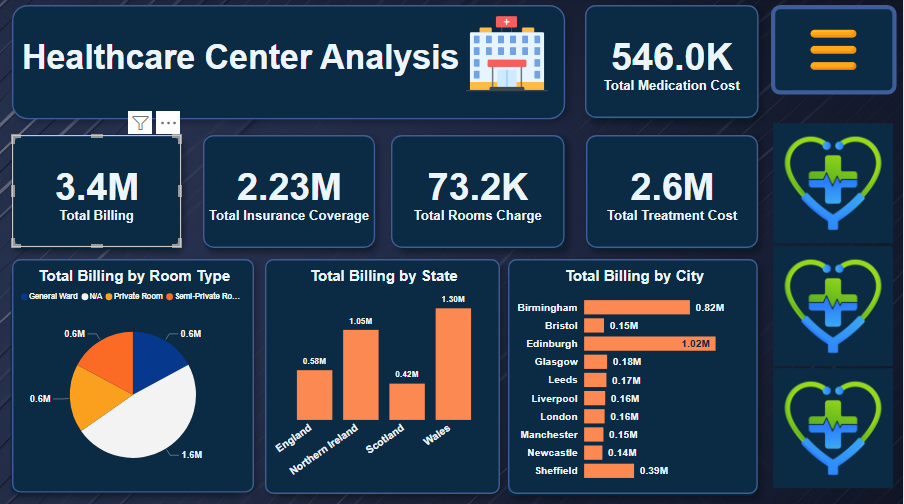

The dashboard page shown, as its layout file describes it:
{"tool":"powerbi","page":{"name":"Page 1","canvas":[1280,720],"ordinal":0},"visuals":[{"type":"slicer","fields":{"Values":["patients.Gender"]},"box":[1093.1,155.2,177.4,87],"z":1000},{"type":"slicer","fields":{"Values":["patients.Race"]},"box":[1093.1,239.9,177.4,87.9],"z":2000},{"type":"slicer","fields":{"Values":["visits.Date of Visit.Variation.Date Hierarchy.Quarter"]},"box":[1093.1,327.8,177.4,87],"z":3000},{"type":"image","box":[1091.3,11.3,178.6,127.6],"z":5000},{"type":"actionButton","box":[1092.2,589.4,171.4,62],"z":6000},{"type":"actionButton","box":[1093.9,506.1,171.4,62],"z":7000},{"type":"shape","title":"Healthcare Analysis","box":[18,11.4,783.7,161.6],"z":8000},{"type":"shape","box":[18,195.9,235.1,161.6],"z":9000},{"type":"shape","box":[292.2,195.4,234.8,161.3],"z":10000},{"type":"shape","box":[566.5,195.9,235.1,161.6],"z":11000},{"type":"shape","box":[835.9,195.9,235.1,161.6],"z":12000},{"type":"shape","box":[835.9,11.4,235.1,161.6],"z":13000},{"type":"shape","box":[17.4,389.1,316.6,314],"z":14000},{"type":"shape","box":[720.5,389.1,351.5,316.6],"z":15000},{"type":"card","fields":{"Values":["KPIs.Total Billing"]},"box":[18.4,195.6,239.5,158.7],"z":19000},{"type":"card","fields":{"Values":["KPIs.Total Insurance Coverage"]},"box":[288.6,195.4,243.8,159.6],"z":20000},{"type":"card","fields":{"Values":["KPIs.Total Rooms Charge"]},"box":[555.7,195.4,245.6,159.6],"z":21000},{"type":"card","fields":{"Values":["KPIs.Total Treatment Cost"]},"box":[831.8,195.4,243.8,159.6],"z":22000},{"type":"card","fields":{"Values":["KPIs.Total Medication Cost"]},"box":[830,10.8,245.6,159.6],"z":23000},{"type":"textbox","box":[32.3,25.1,756.5,130.9],"z":24000},{"type":"image","box":[652.5,10.8,136.2,138],"z":25000},{"type":"clusteredBarChart","title":" Total Billing by City ","fields":{"Category":["cities.City"],"Y":["Sum(visits.Total Billing)"]},"box":[721.4,371.3,354.3,333.1],"z":26000},{"type":"shape","box":[393.3,388.4,285.2,314.7],"z":27000},{"type":"clusteredColumnChart","title":" Total Billing by State","fields":{"Category":["cities.State"],"Y":["Sum(visits.Total Billing)"]},"box":[377,372,332.7,332.7],"z":28000},{"type":"pieChart","title":" Total Billing by Room Type","fields":{"Y":["Sum(visits.Total Billing)"],"Category":["visits.Room Type"]},"box":[18,372,342.5,331.1],"z":29000}]}

Visuals, with their boxes in screenshot pixels (x1, y1, x2, y2), scaled from the page's 1280x720 canvas onto the 904x504 screenshot:
slicer - patients.Gender: [left=772, top=109, right=897, bottom=170]
slicer - patients.Race: [left=772, top=168, right=897, bottom=229]
slicer - visits.Date of Visit.Variation.Date Hierarchy.Quarter: [left=772, top=229, right=897, bottom=290]
image: [left=771, top=8, right=897, bottom=97]
actionButton: [left=771, top=413, right=892, bottom=456]
actionButton: [left=773, top=354, right=894, bottom=398]
"Healthcare Analysis" shape: [left=13, top=8, right=566, bottom=121]
shape: [left=13, top=137, right=179, bottom=250]
shape: [left=206, top=137, right=372, bottom=250]
shape: [left=400, top=137, right=566, bottom=250]
shape: [left=590, top=137, right=756, bottom=250]
shape: [left=590, top=8, right=756, bottom=121]
shape: [left=12, top=272, right=236, bottom=492]
shape: [left=509, top=272, right=757, bottom=494]
card - KPIs.Total Billing: [left=13, top=137, right=182, bottom=248]
card - KPIs.Total Insurance Coverage: [left=204, top=137, right=376, bottom=248]
card - KPIs.Total Rooms Charge: [left=392, top=137, right=566, bottom=248]
card - KPIs.Total Treatment Cost: [left=587, top=137, right=760, bottom=248]
card - KPIs.Total Medication Cost: [left=586, top=8, right=760, bottom=119]
textbox: [left=23, top=18, right=557, bottom=109]
image: [left=461, top=8, right=557, bottom=104]
" Total Billing by City " clusteredBarChart: [left=509, top=260, right=760, bottom=493]
shape: [left=278, top=272, right=479, bottom=492]
" Total Billing by State" clusteredColumnChart: [left=266, top=260, right=501, bottom=493]
" Total Billing by Room Type" pieChart: [left=13, top=260, right=255, bottom=492]
